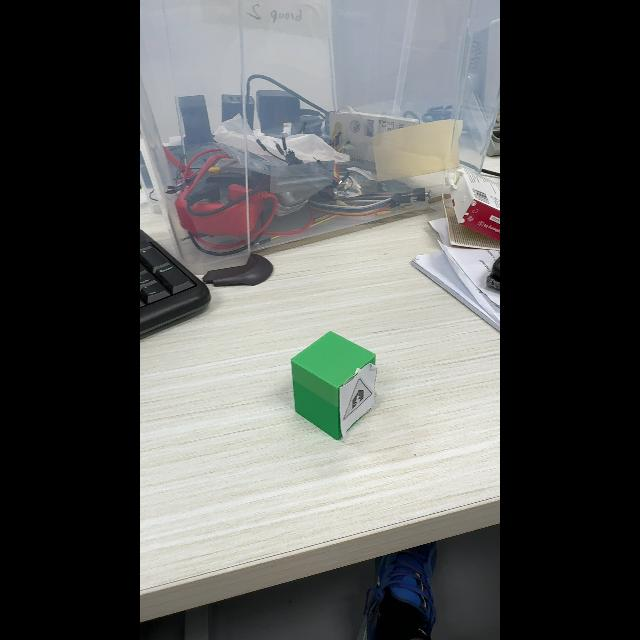Earthquake: (344, 378, 371, 420)
